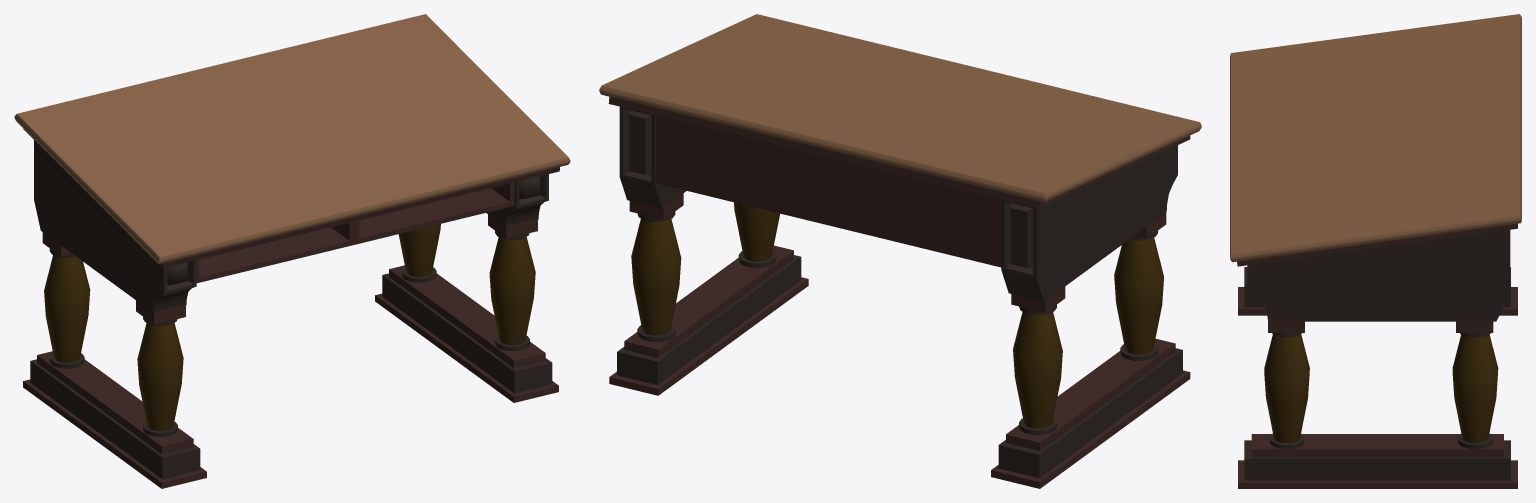
File: escritorio.fbx
3 renders of one model, left to right at view 1: azimuth 30°, elevation 25°; view 2: azimuth 150°, elevation 25°; view 3: azimuth 270°, elevation 25°, orthographic. The views are drawn at different scales.
Parts seen in each view (by area): view 1: Escritorio; view 2: Escritorio; view 3: Escritorio.
Part boxes in pixels (x1,y1,x2,y2): Escritorio: [14, 14, 570, 488]; Escritorio: [599, 14, 1201, 488]; Escritorio: [1230, 14, 1521, 488].
Bounding box in the file's own units: 151 × 96.52 × 92.21.
